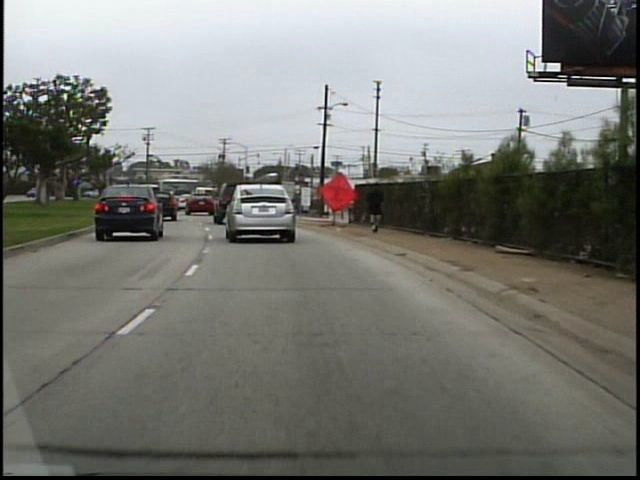person: (364, 178, 390, 236)
